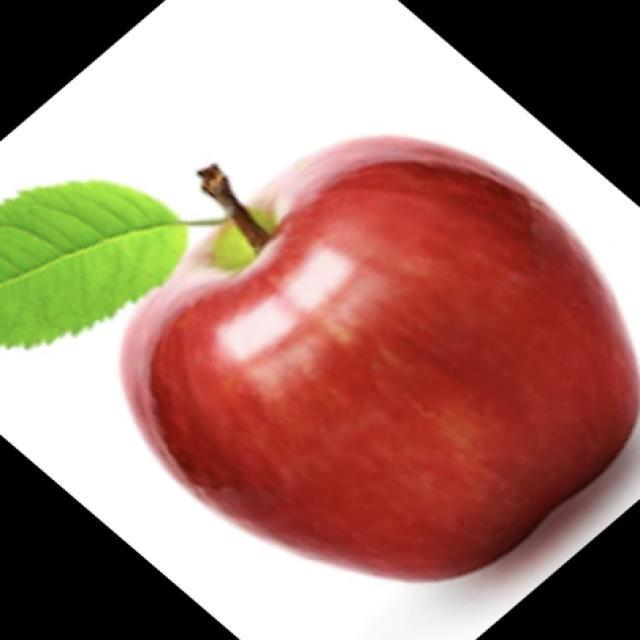Apple: (118, 133, 639, 583)
